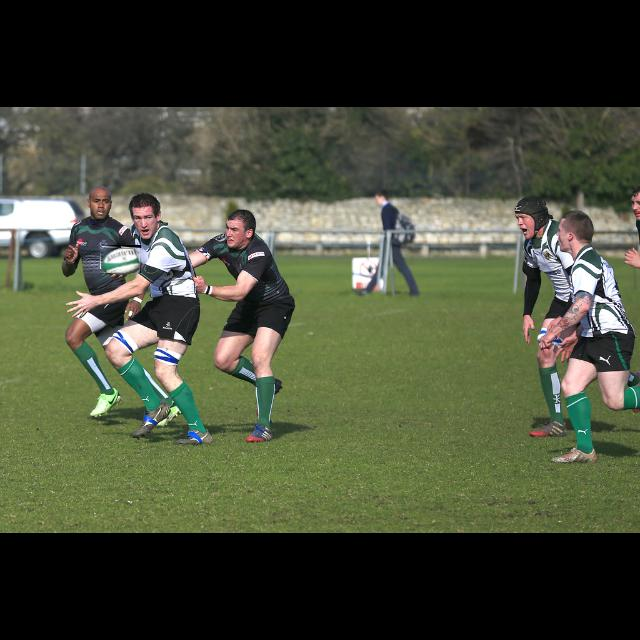Football: (101, 245, 141, 273)
